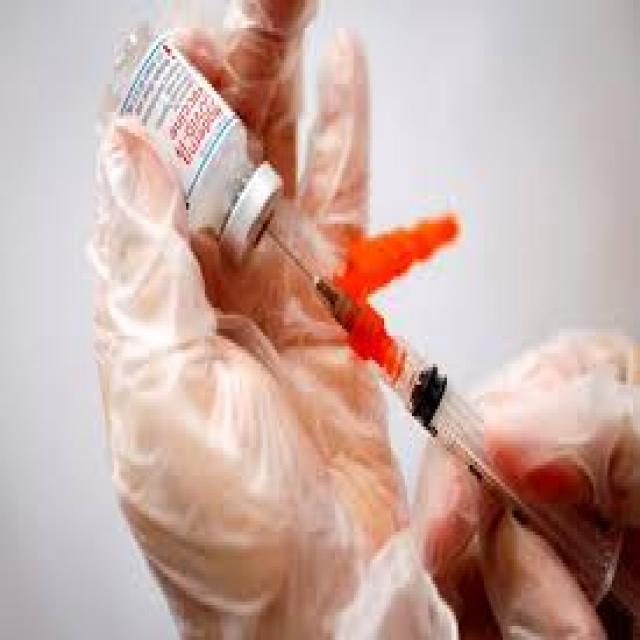syringe: (102, 37, 495, 461)
